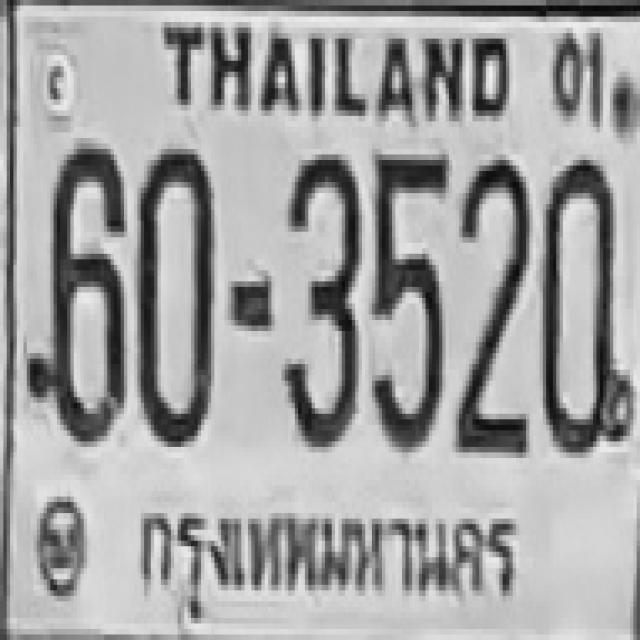0: (541, 154, 632, 452), (136, 144, 212, 442)
2: (454, 154, 531, 452)
3: (280, 149, 360, 441)
5: (369, 149, 449, 447)
6: (37, 140, 124, 438)
Bangkok: (128, 493, 530, 616)
